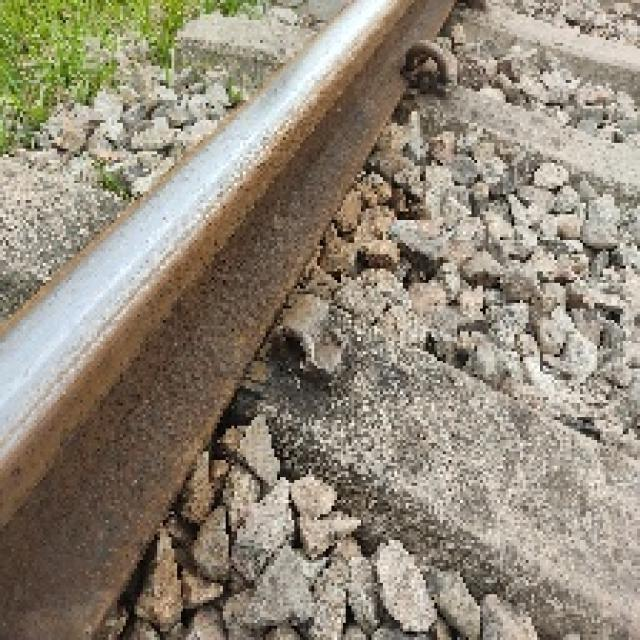Good Fasteners: (406, 43, 454, 91)
Missing Fastener: (260, 286, 364, 389)
